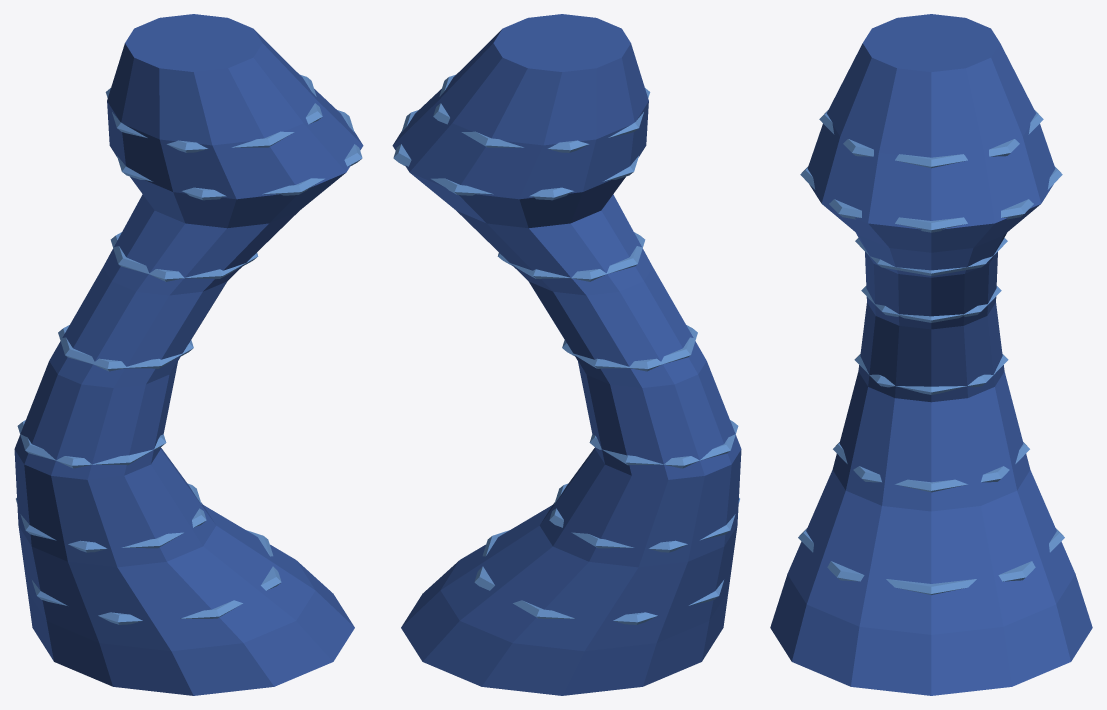
The model's file is CobaltPalmTrunk.obj.
The picture shows the model from 3 angles, left to right: view 1: azimuth 30°, elevation 25°; view 2: azimuth 150°, elevation 25°; view 3: azimuth 270°, elevation 25°; orthographic projection.
Parts seen in each view (by area): view 1: CobaltPalmTrunk_CobaltPalmBark, CobaltPalmTrunk_PalmGrowthRings; view 2: CobaltPalmTrunk_CobaltPalmBark, CobaltPalmTrunk_PalmGrowthRings; view 3: CobaltPalmTrunk_CobaltPalmBark, CobaltPalmTrunk_PalmGrowthRings.
Part boxes in pixels (x1,y1,x2,y2): CobaltPalmTrunk_CobaltPalmBark: (14, 14, 363, 695); CobaltPalmTrunk_PalmGrowthRings: (16, 74, 362, 624); CobaltPalmTrunk_CobaltPalmBark: (392, 14, 741, 695); CobaltPalmTrunk_PalmGrowthRings: (393, 74, 739, 624); CobaltPalmTrunk_CobaltPalmBark: (770, 14, 1092, 695); CobaltPalmTrunk_PalmGrowthRings: (798, 110, 1064, 594).
Bounding box in the file's own units: 1.75 × 3 × 1.5.
